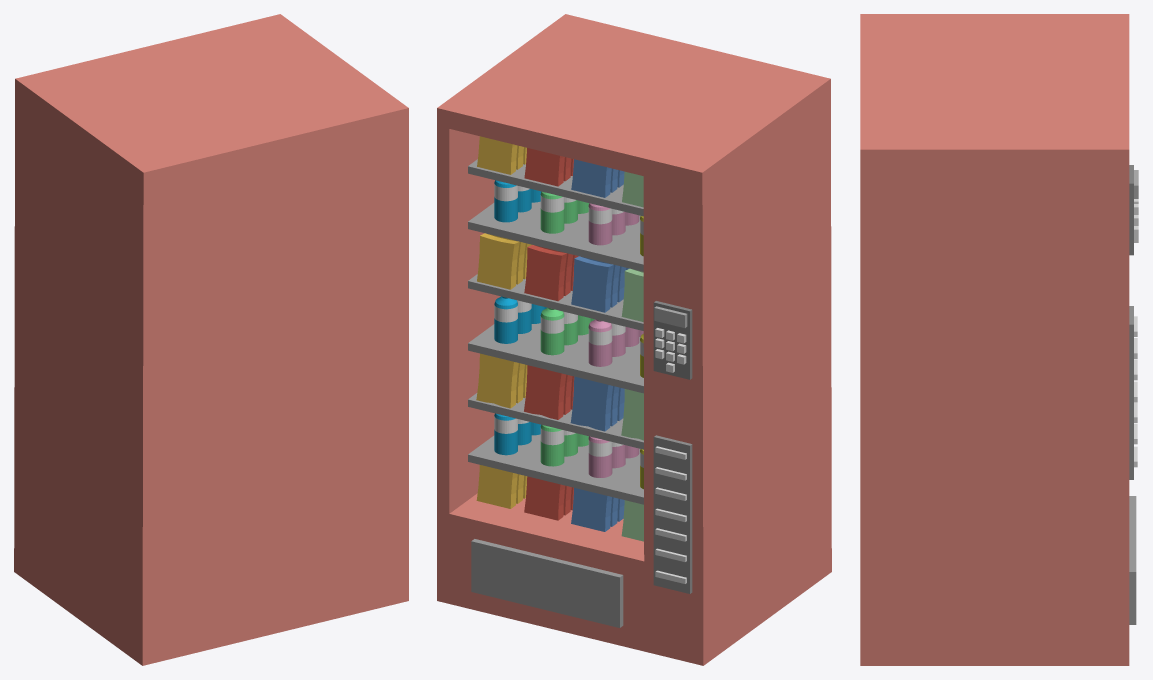
The model's file is otomat.fbx.
The picture shows the model from 3 angles, left to right: view 1: azimuth 30°, elevation 25°; view 2: azimuth 150°, elevation 25°; view 3: azimuth 270°, elevation 25°; orthographic projection. The views are drawn at different scales.
Visible parts, largest first — view 1: Cube.023; view 2: Cube.023, Cube.001, Cube.020, Cube.021, Cube.004, Cube.002, Cube.003, Cube.009, Cube.012, Cube.010, Cylinder.005, Cube.015 (+19 smaller); view 3: Cube.023, Cube.021, Cube.020, Cube.007.
Part boxes in pixels (x1,y1,x2,y2): Cube.023: (14,14,408,665); Cube.023: (437,14,831,665); Cube.001: (468,159,643,504); Cube.020: (471,539,623,627); Cube.021: (653,435,692,593); Cube.004: (571,256,629,312); Cube.002: (477,233,531,289); Cube.003: (524,245,578,301); Cube.009: (570,376,624,431); Cube.012: (476,353,527,408); Cube.010: (524,365,574,419); Cylinder.005: (588,319,643,366); Cube.015: (571,488,624,531); Cube.023: (860,14,1129,665); Cube.021: (1129,306,1137,479); Cube.020: (1129,496,1136,624); Cube.007: (1129,165,1133,255).
Size of the model in its own units: 201 by 356 by 174.
